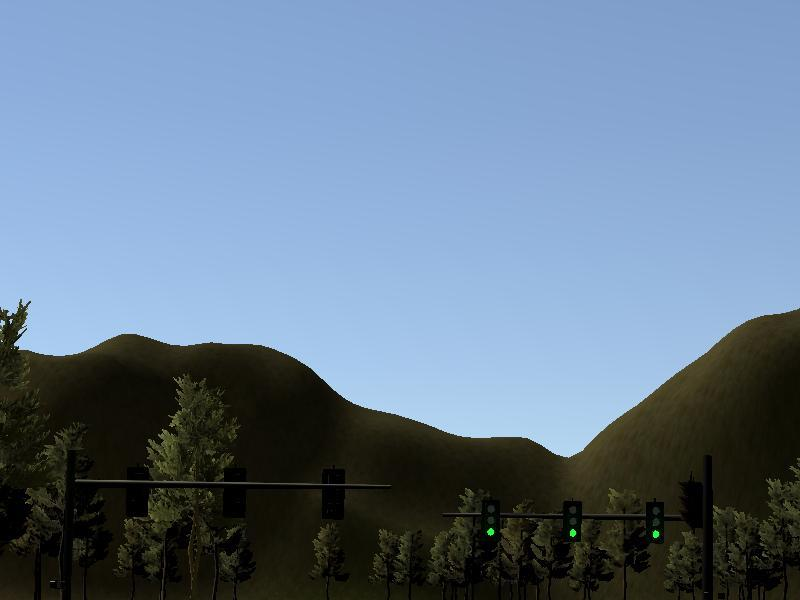Green: (646, 499, 665, 542), (563, 499, 582, 542), (481, 498, 500, 541)
